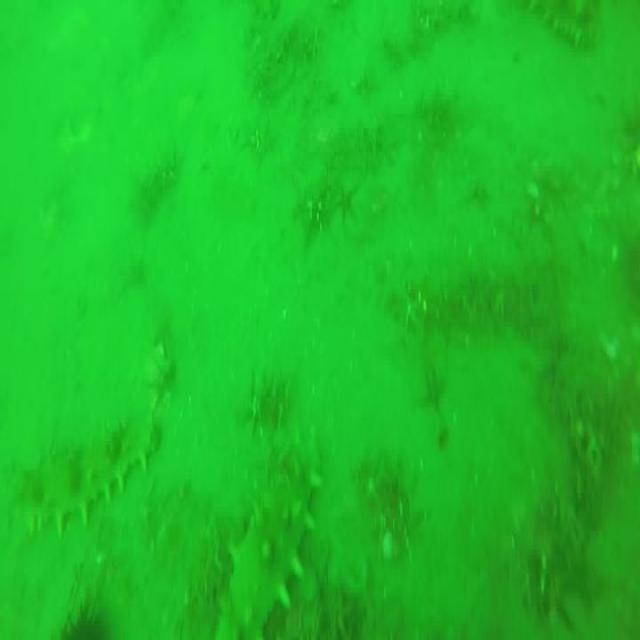holothurian: (215, 433, 330, 640), (14, 420, 160, 534), (515, 0, 598, 51)
